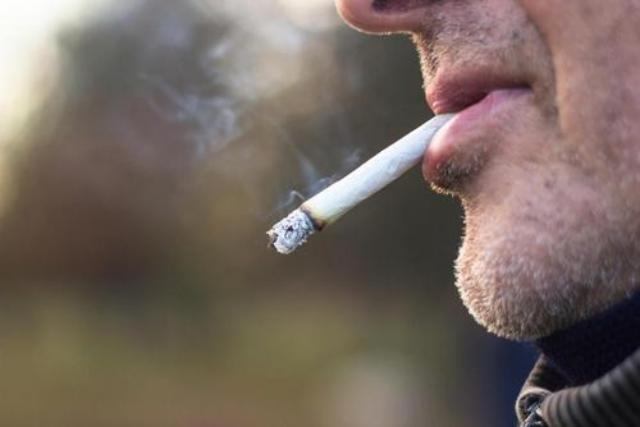Cigarette: (266, 80, 504, 256)
